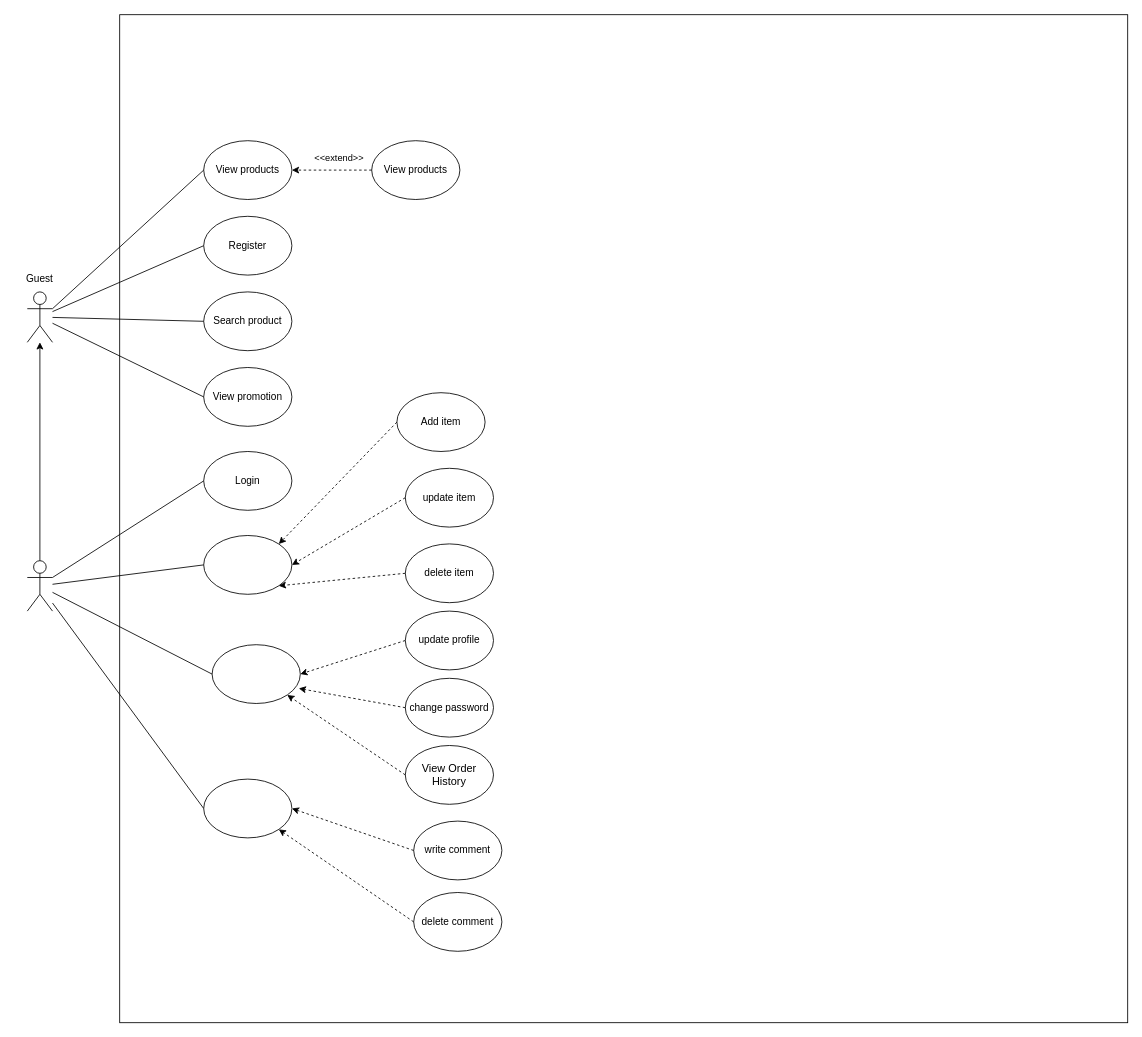
The diagram is 1142 pixels wide and 1037 high, and some of its shapes have lost their labels. Each missing label, with the centre of its shape:
Customer: pixel 39 585
Manage cart: pixel 247 564
Manage profile: pixel 255 674
Review product: pixel 247 808
